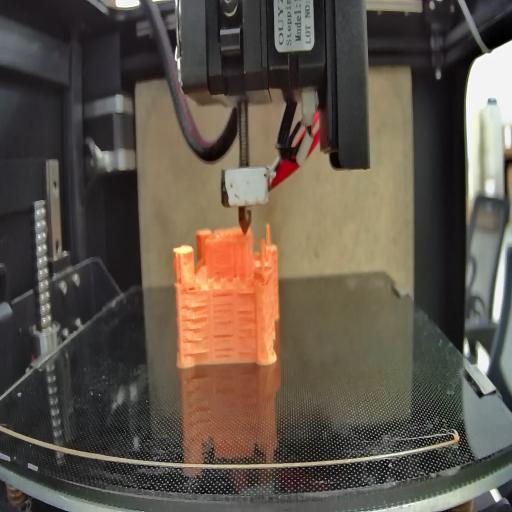cracks: (183, 301, 210, 358), (238, 308, 259, 358), (214, 292, 236, 326), (215, 330, 234, 362), (235, 290, 259, 304), (186, 282, 199, 294)
